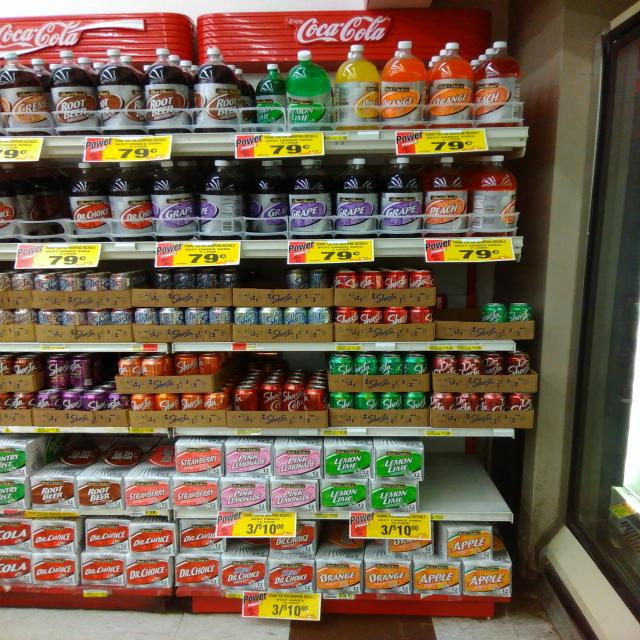void: (429, 437, 508, 513), (13, 162, 67, 245), (440, 267, 476, 341)
